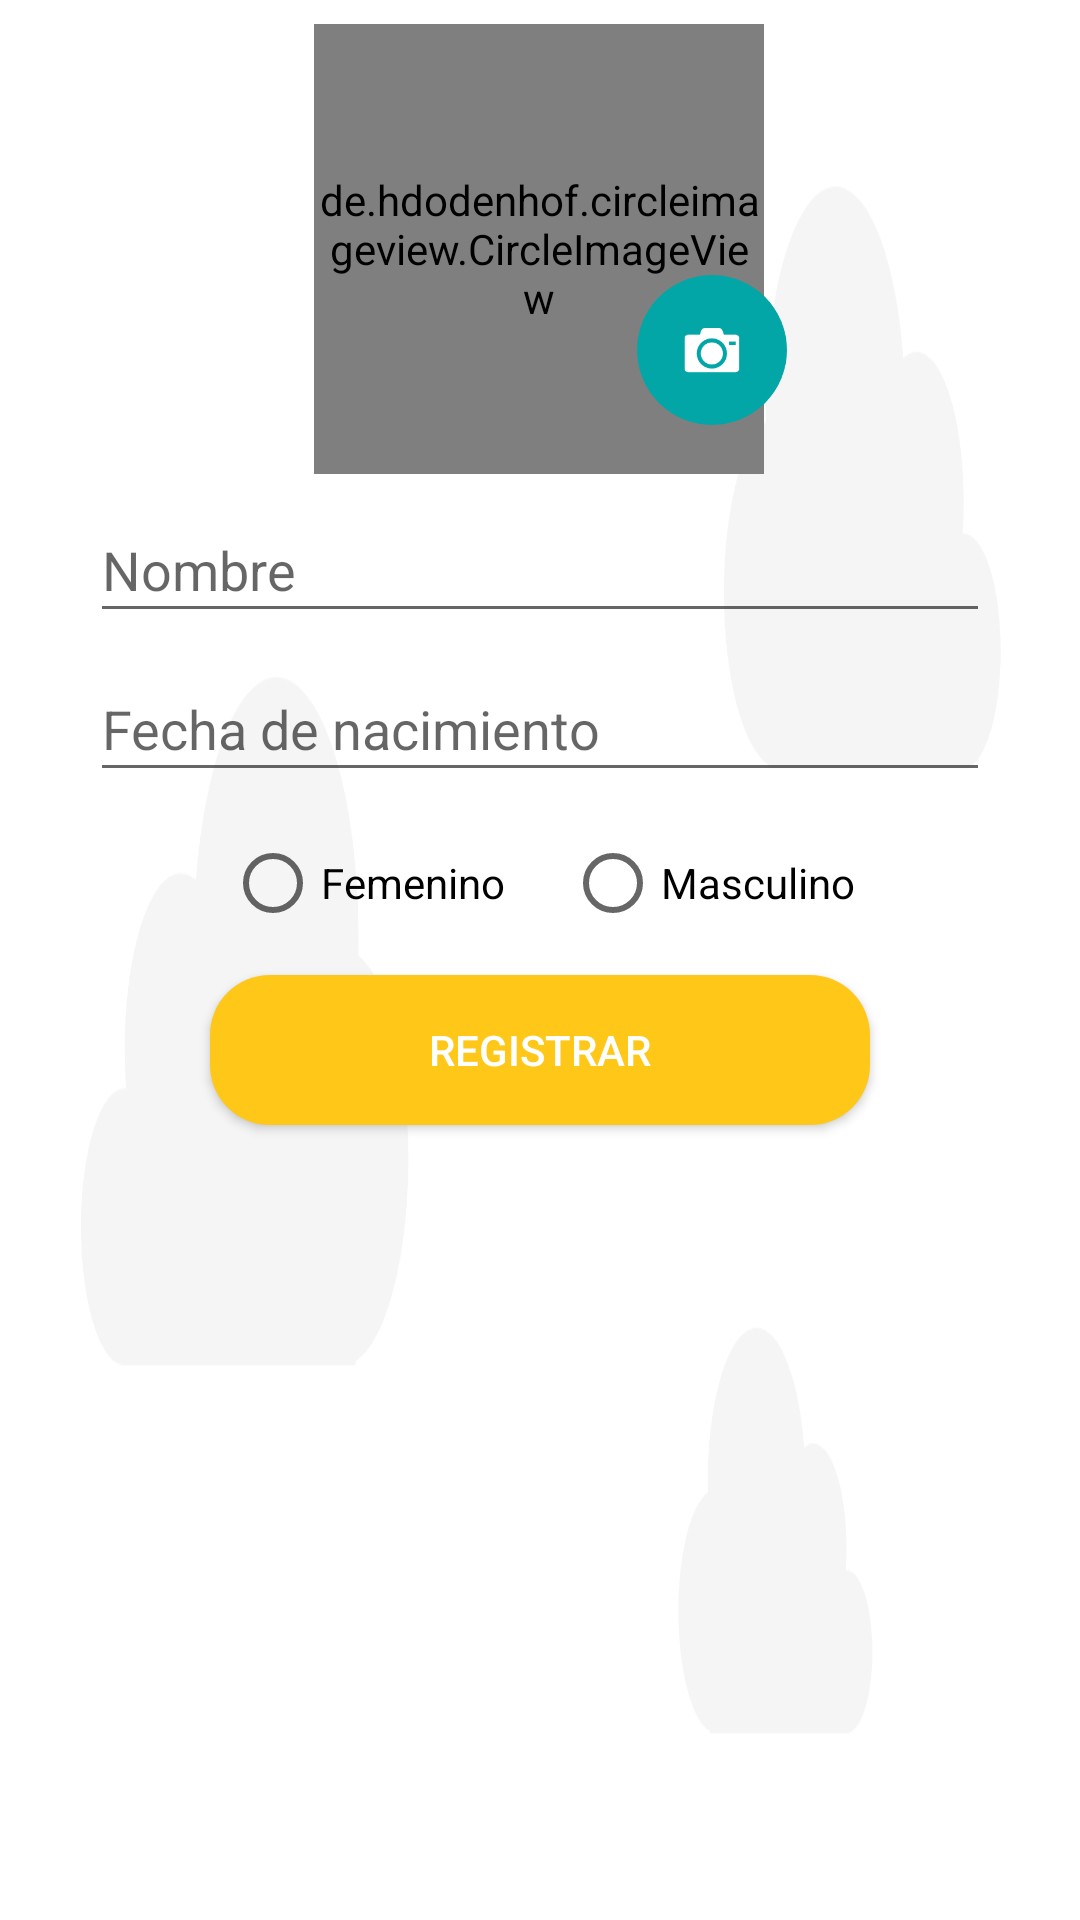

Where to tap for icons on this 1080*1920 app screen, as [x,y]:
take: [712,350]
